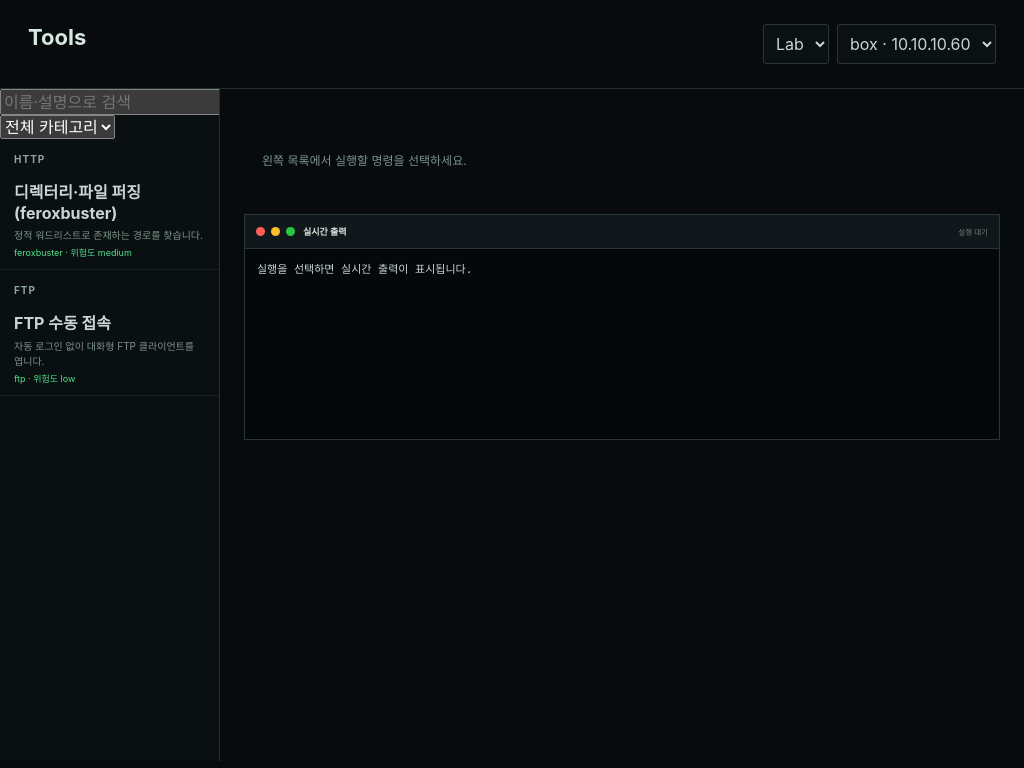
Test: launches an interactive-mode command in a desktop terminal instead of streaming it inline
Expected: the heading "FTP" is shown, [14,284,36,296]
Click the text "FTP 수동 접속".
click(62, 323)  # box [14,313,111,333]
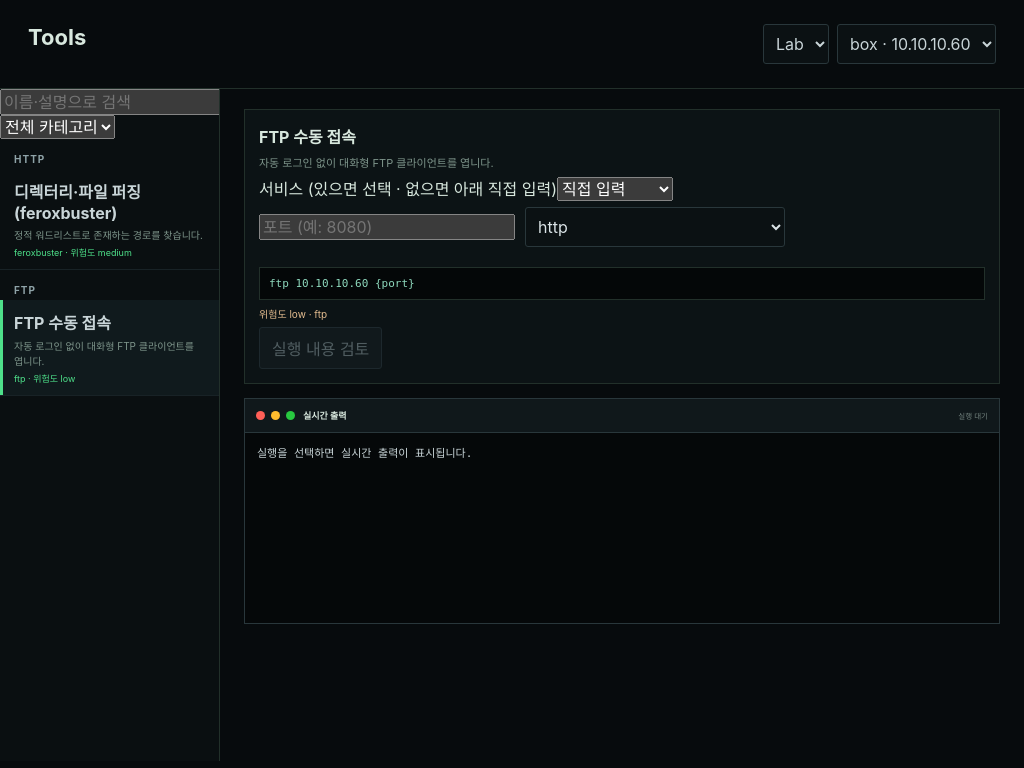
Select "80/tcp · http" in the dropdown labelled "서비스 (있으면 선택 · 없으면 아래 직접 입력)" at (615, 189), box [557,177,673,201]
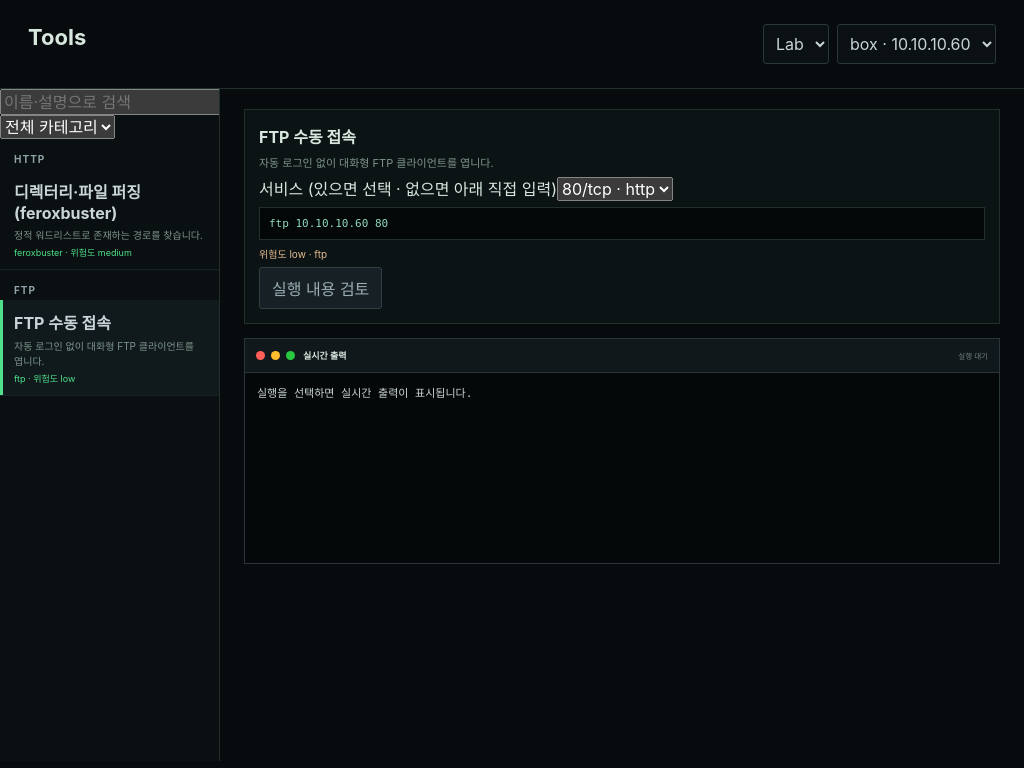
Now the button "실행 내용 검토" is enabled
Click the button "실행 내용 검토".
click(321, 288)  # box [259,267,382,309]
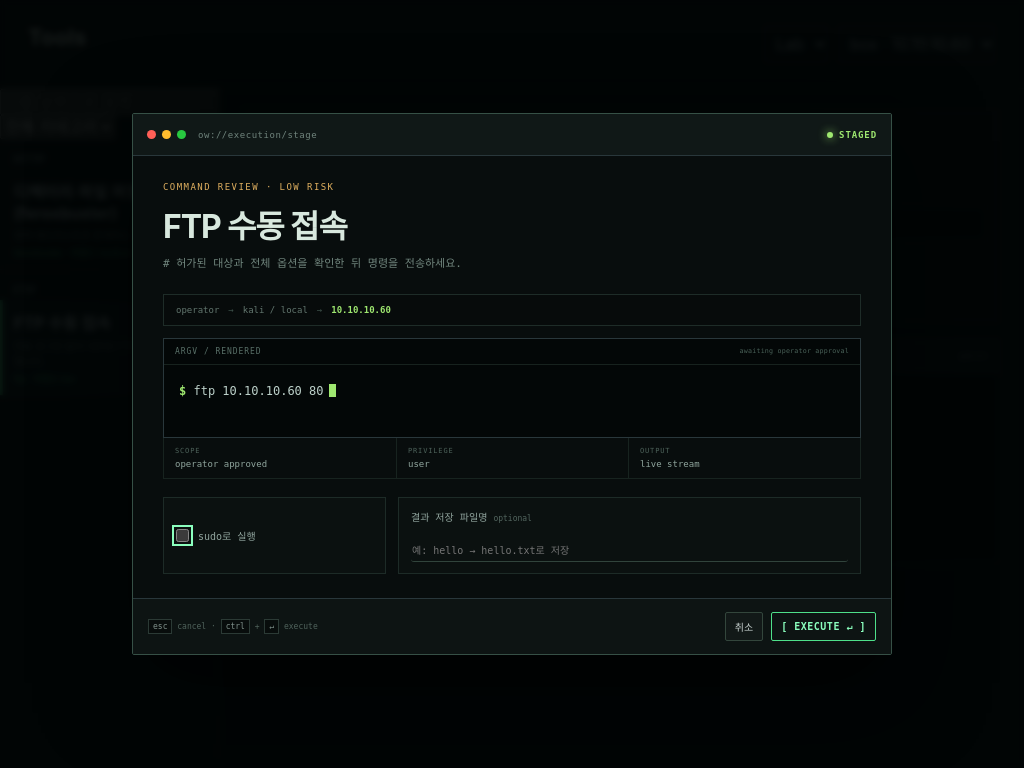
Click the button "[ EXECUTE ↵ ]".
click(824, 626)  # box [771,612,876,641]
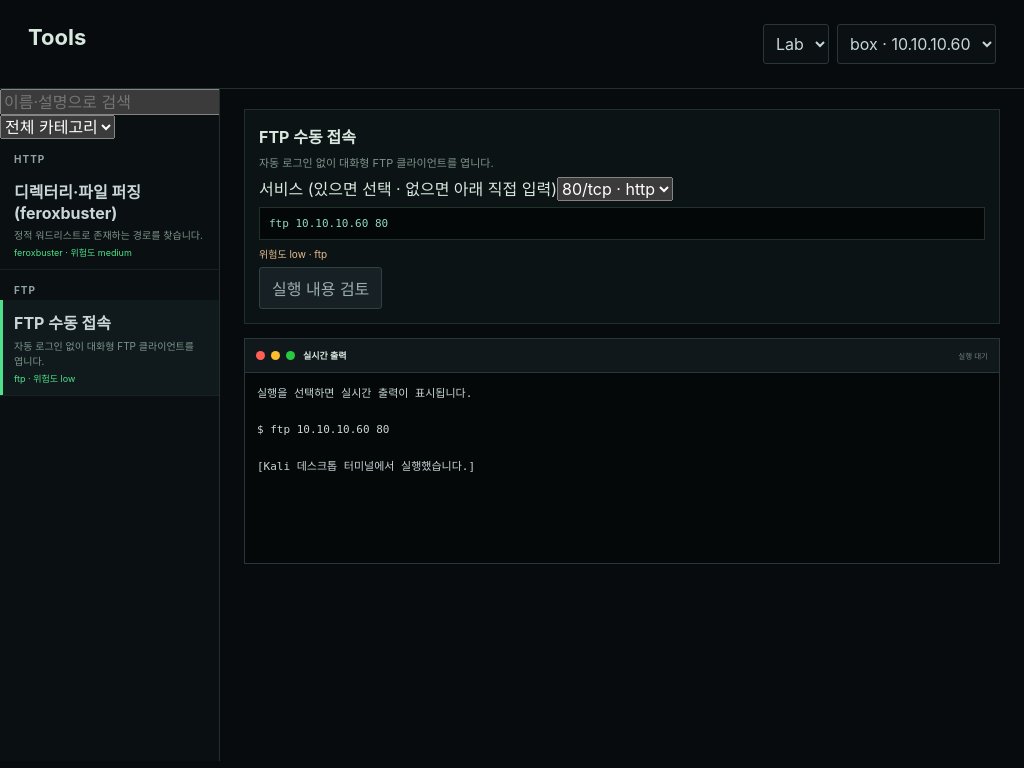
Now the text "Kali 데스크톱 터미널에서 실행했습니다" is shown, box [257,387,475,473]
